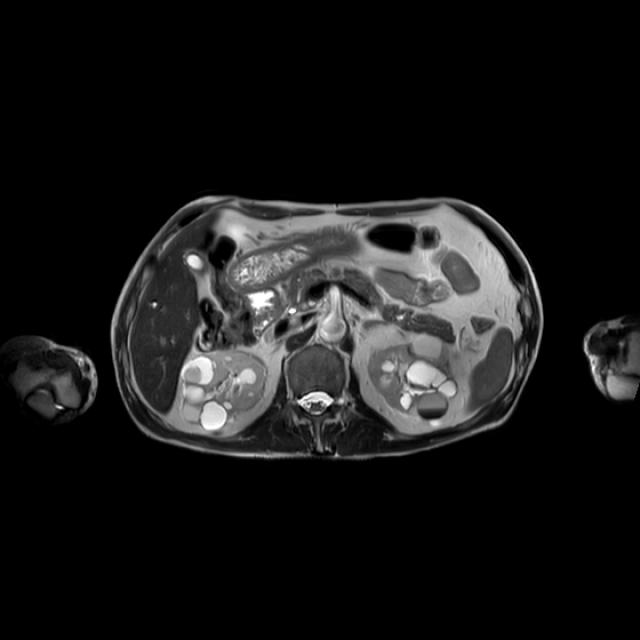sag: (180, 350, 268, 432)
sol: (370, 334, 457, 419)
